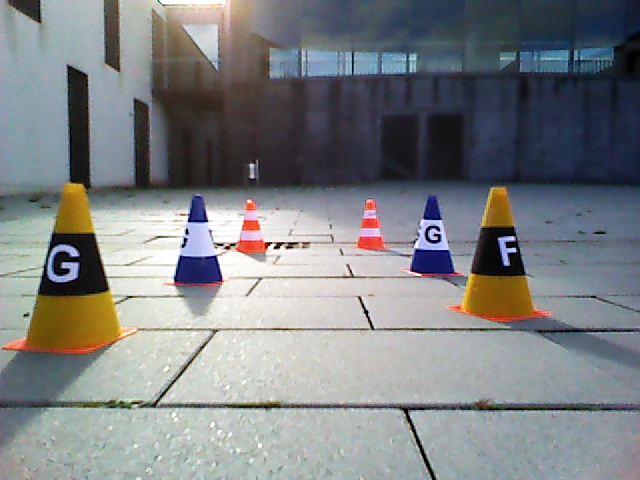bluecone: (176, 192, 224, 283), (413, 196, 454, 274)
orangeconesmall: (238, 198, 266, 251), (358, 198, 385, 247)
yellowcone: (23, 183, 121, 348), (462, 186, 537, 317)
